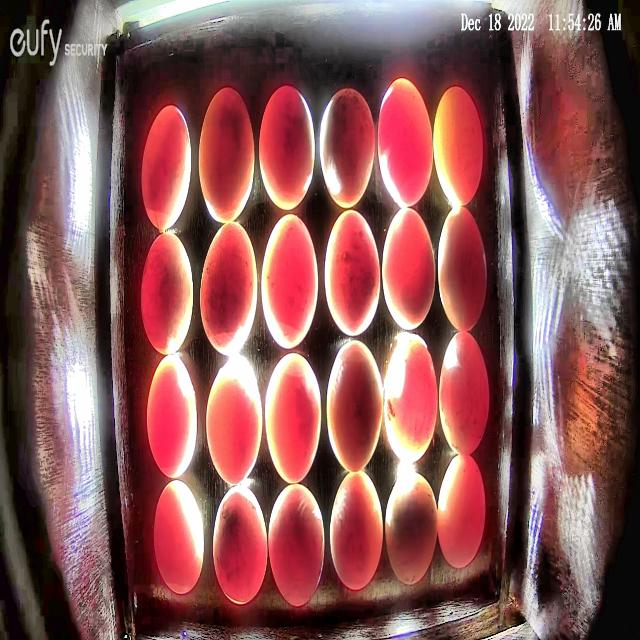FE: (326, 337, 384, 476), (198, 86, 255, 226), (261, 211, 319, 348), (200, 222, 259, 356), (264, 353, 323, 484), (324, 208, 382, 336), (377, 76, 434, 206), (205, 354, 262, 484), (258, 86, 316, 211), (384, 333, 438, 466), (140, 230, 196, 356), (319, 87, 375, 210), (381, 206, 436, 331), (269, 483, 324, 607), (212, 485, 268, 604), (329, 470, 383, 591), (146, 353, 198, 478), (440, 329, 490, 459), (141, 104, 192, 230), (432, 84, 483, 210), (384, 471, 438, 586), (438, 207, 487, 333), (154, 479, 204, 595), (438, 454, 487, 569)
